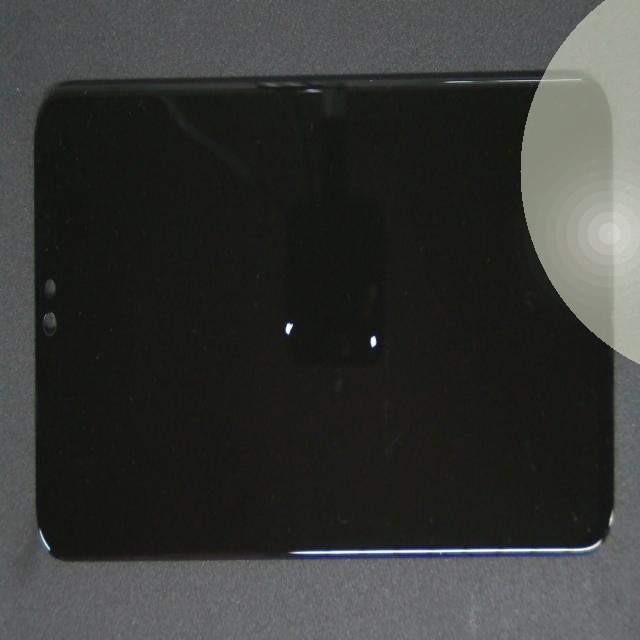stain: (196, 147, 553, 489), (155, 135, 429, 461)
